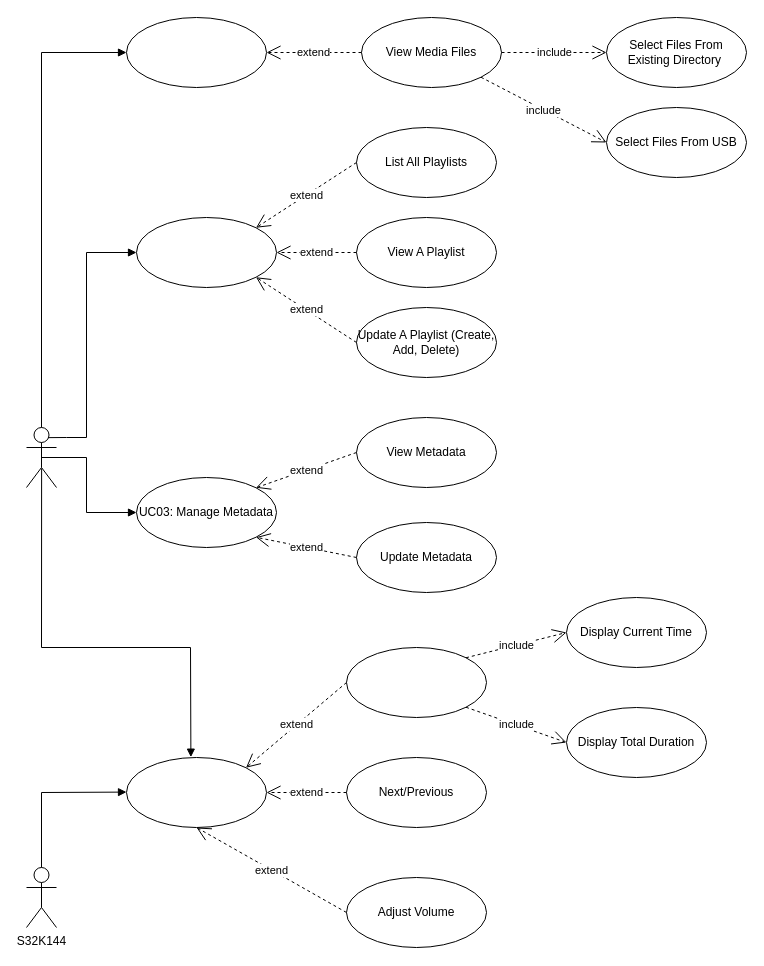
This 764x966 diagram has some shape labels left out. Each missing label, with the centre of its shape:
Play/ Pause: (416,682)
UC01:Browse Media Files: (196,52)
UC02: Manage Playlists: (206,252)
UC04: Play Music: (196,792)
User: (41,457)
